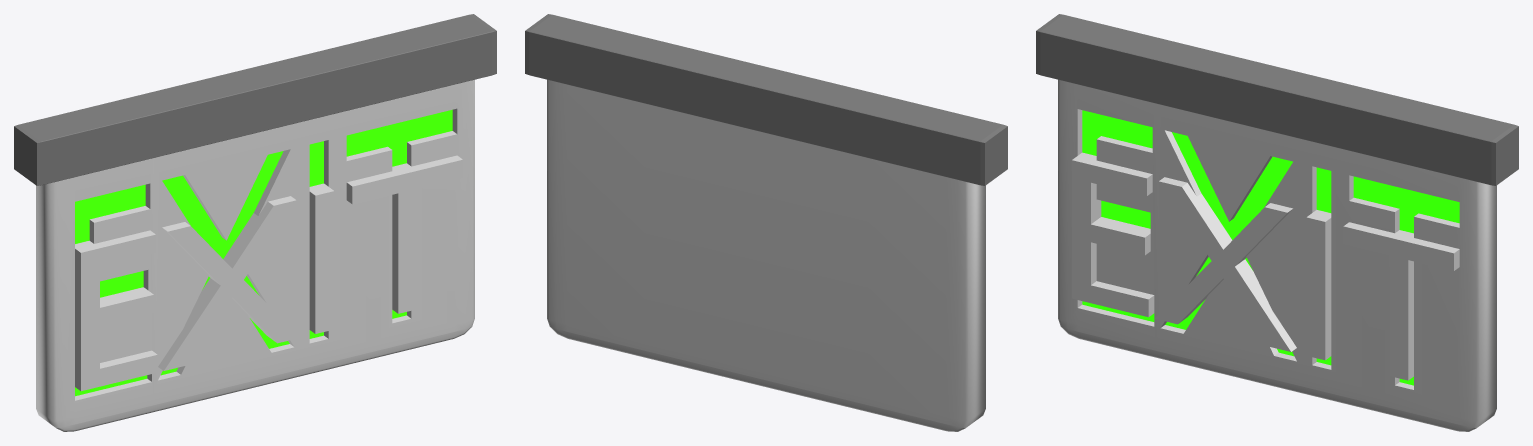
File: ExitSign.fbx
3 views of the same model, side by side, from view 1: azimuth 30°, elevation 25°; view 2: azimuth 150°, elevation 25°; view 3: azimuth 330°, elevation 25° (orthographic).
Visible parts, largest first — view 1: Cube, Cube.001, Text, Text.001; view 2: Cube, Cube.001; view 3: Cube, Cube.001, Text, Text.001.
Part boxes in pixels (x1,y1,x2,y2): Cube: (36, 79, 474, 431); Cube.001: (14, 14, 496, 185); Text: (75, 155, 462, 391); Text.001: (75, 109, 452, 396); Cube: (547, 79, 985, 431); Cube.001: (525, 14, 1007, 185); Cube: (1058, 79, 1496, 431); Cube.001: (1036, 14, 1518, 185); Text: (1072, 152, 1459, 380); Text.001: (1082, 110, 1459, 385).
Bounding box in the file's own units: 345 × 215 × 35.44.
